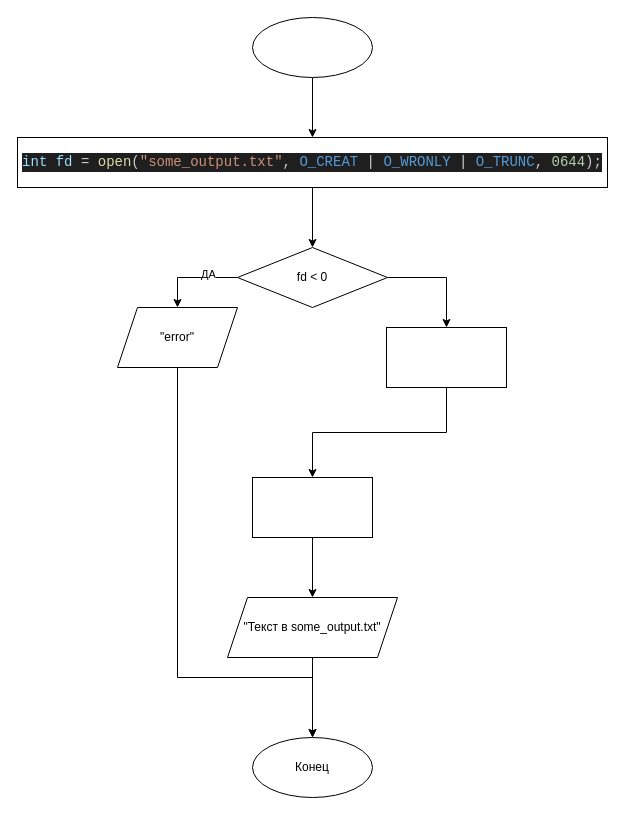
Image size: 625x815. Some labels were removed from this diagram. Each missing label, with the centre of its shape:
close(fd): the point at 312,507
dup(fd, 1): the point at 446,357
начало: the point at 312,47
